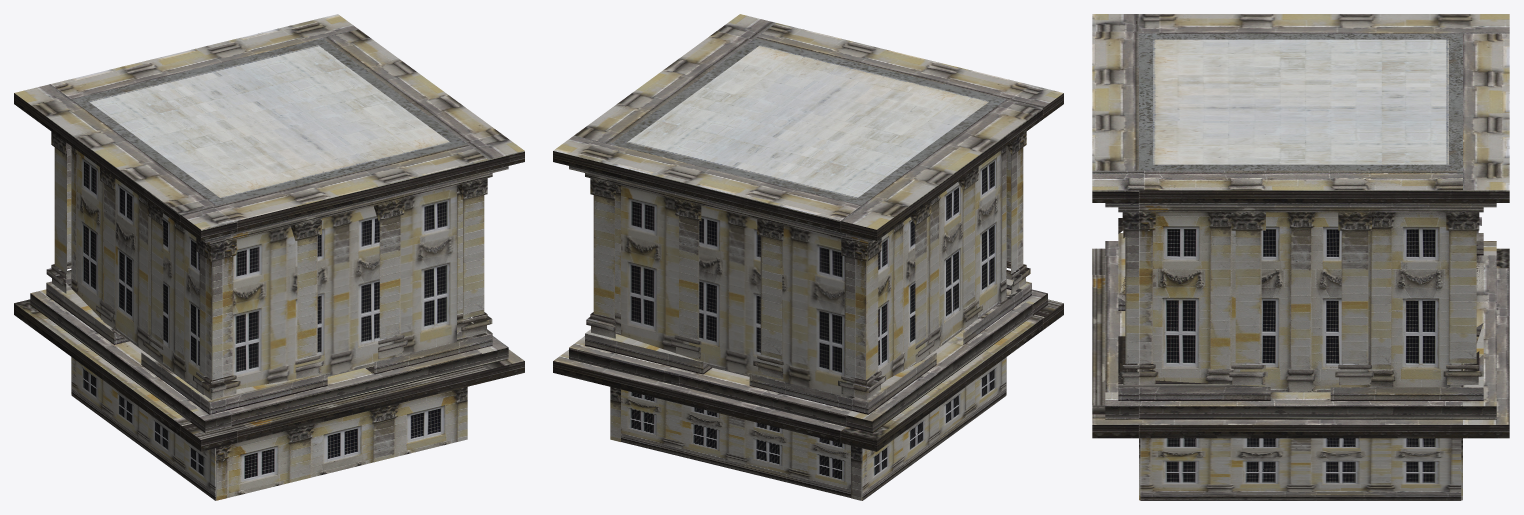
File: BagBuilding5_70.fbx
3 views of the same model, side by side, from view 1: azimuth 30°, elevation 25°; view 2: azimuth 150°, elevation 25°; view 3: azimuth 270°, elevation 25° (orthographic). The views are drawn at different scales.
Visible parts, largest first — view 1: main70, Box70, roof70, roofrim70, BoxA70; view 2: main70, Box70, roof70, BoxA70, roofrim70; view 3: main70, Box70, roof70, BoxA70, roofrim70.
Part boxes in pixels (<box>): main70: <box>14,14,524,500</box>; Box70: <box>71,146,456,394</box>; roof70: <box>88,45,450,198</box>; roofrim70: <box>71,38,466,205</box>; BoxA70: <box>71,357,215,500</box>; main70: <box>553,14,1063,500</box>; Box70: <box>621,146,1006,398</box>; roof70: <box>627,45,989,198</box>; BoxA70: <box>621,357,1006,500</box>; roofrim70: <box>611,38,1006,205</box>; main70: <box>1092,14,1509,500</box>; Box70: <box>1149,212,1461,392</box>; roof70: <box>1153,39,1448,164</box>; BoxA70: <box>1140,438,1461,500</box>; roofrim70: <box>1139,33,1462,170</box>.
Bounding box in the file's own units: 18.94 × 16.53 × 18.94.
